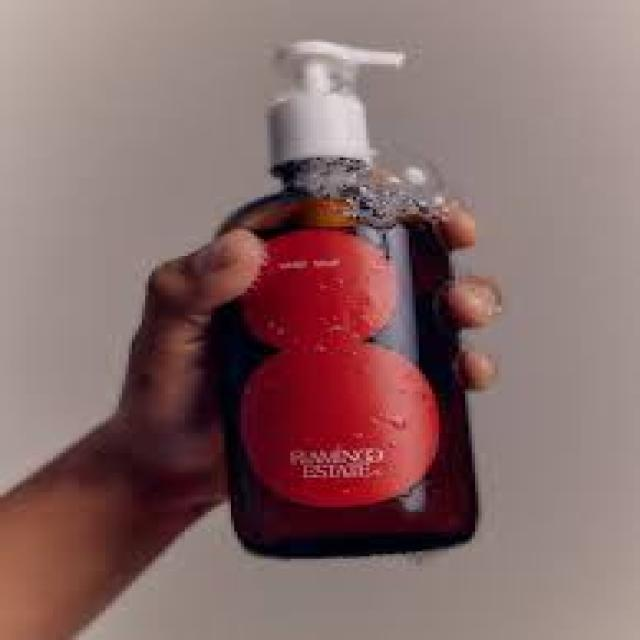liquid soap: (195, 34, 486, 562)
